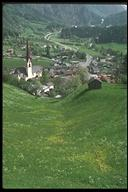field: (7, 97, 127, 192)
house: (10, 40, 46, 80), (88, 76, 102, 92)
mountain: (5, 5, 126, 45)
